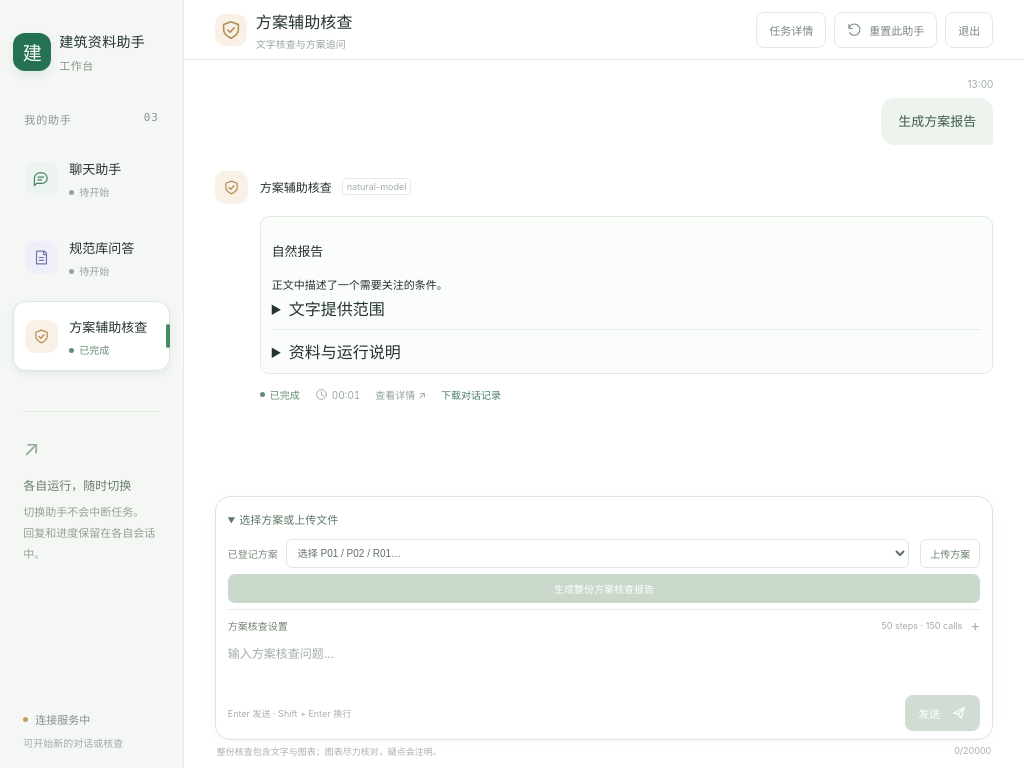
Test case: renders only the natural answer and keeps program appendices folded
Expected: the element named "方案核查报告" is shown, [260,216,993,374]
Expected: the heading "自然报告" is shown, [272,244,323,259]
Click the heading "文字提供范围". click: {"x": 337, "y": 309}
box: [289,299,385,319]
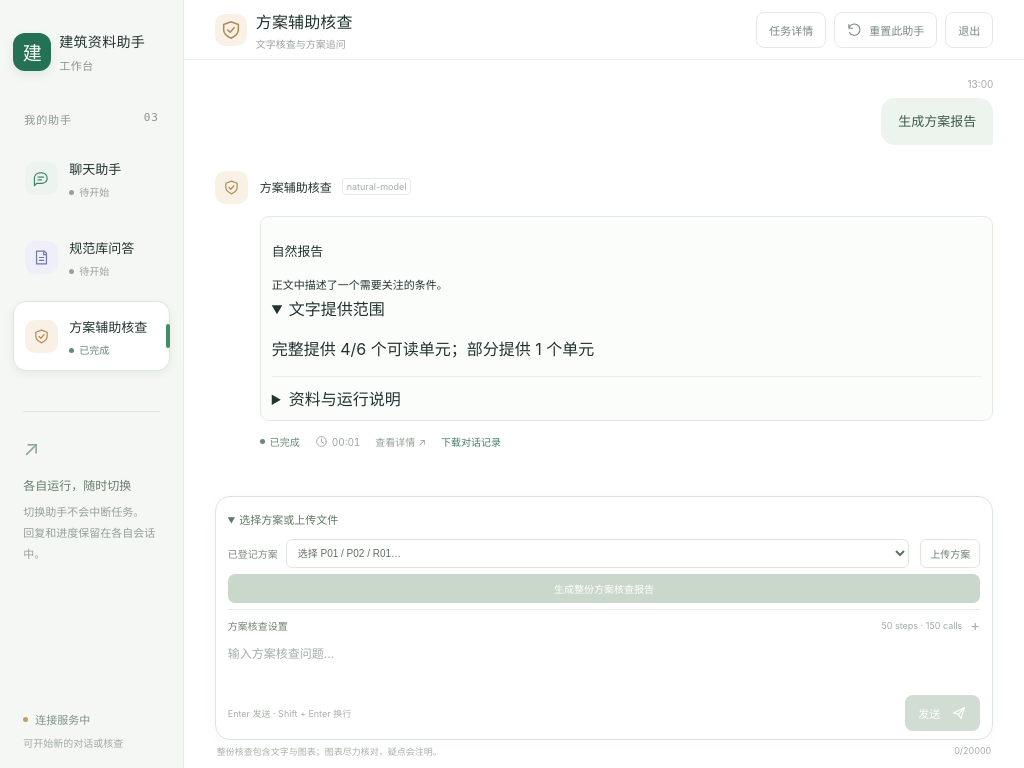
Expected: the text "完整提供 4/6 个可读单元；部分提供 1 个单元" is shown, [272,339,594,359]
Click the heading "资料与运行说明". click: {"x": 345, "y": 399}
box: [289,389,401,409]
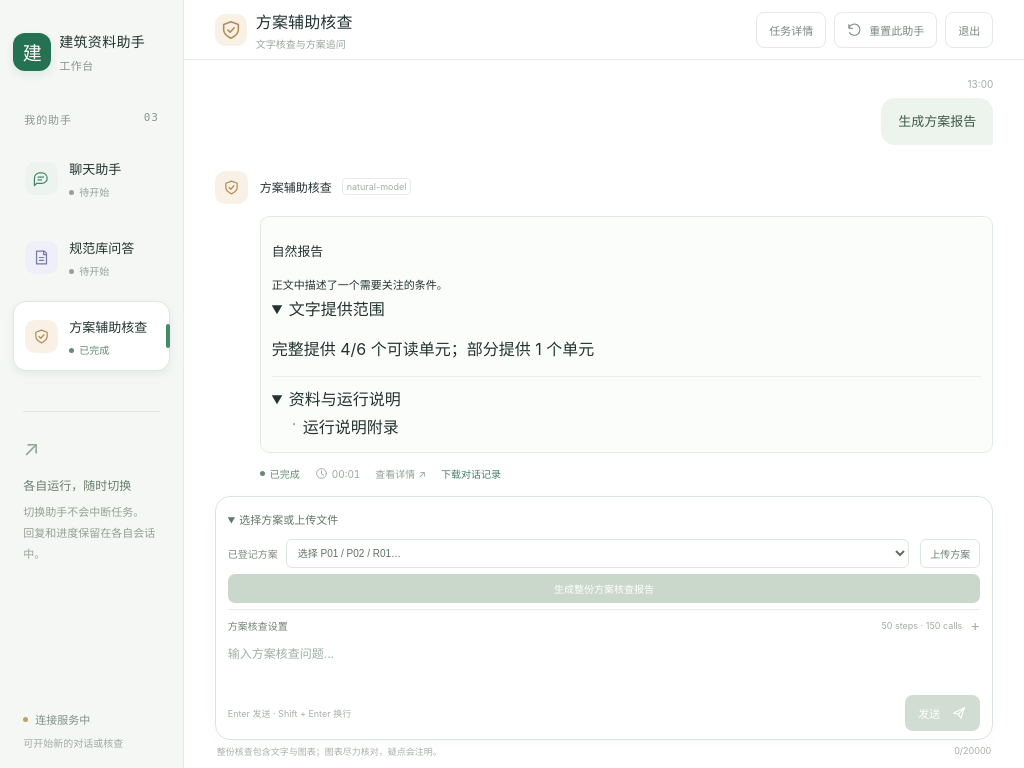
Expected: the text "正文中描述了一个需要关注的条件。" is shown, [272,278,448,292]
Expected: the list item "运行说明附录" is shown, [303,417,399,437]
